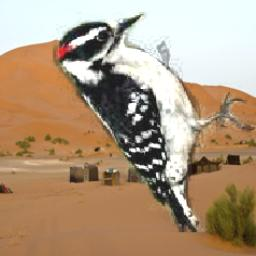Woodpecker: (54, 13, 256, 233)
